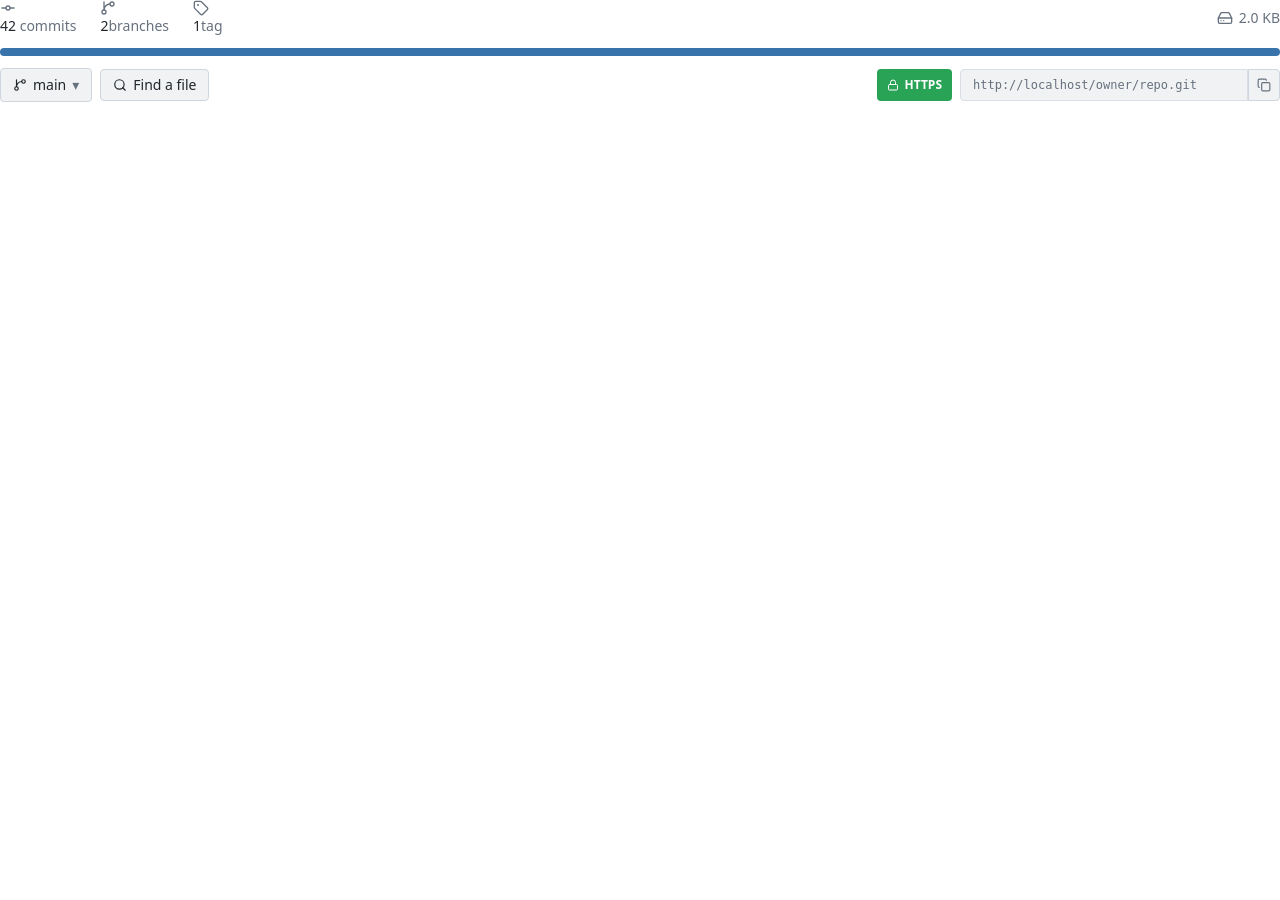
Scenario: RepoStats › searches branches and tags and navigates to the tag namespace
The image size is (1280, 900).
Click the button with test id "branch-selector" at [46, 85], box x1=0 y1=68 x2=92 y2=102
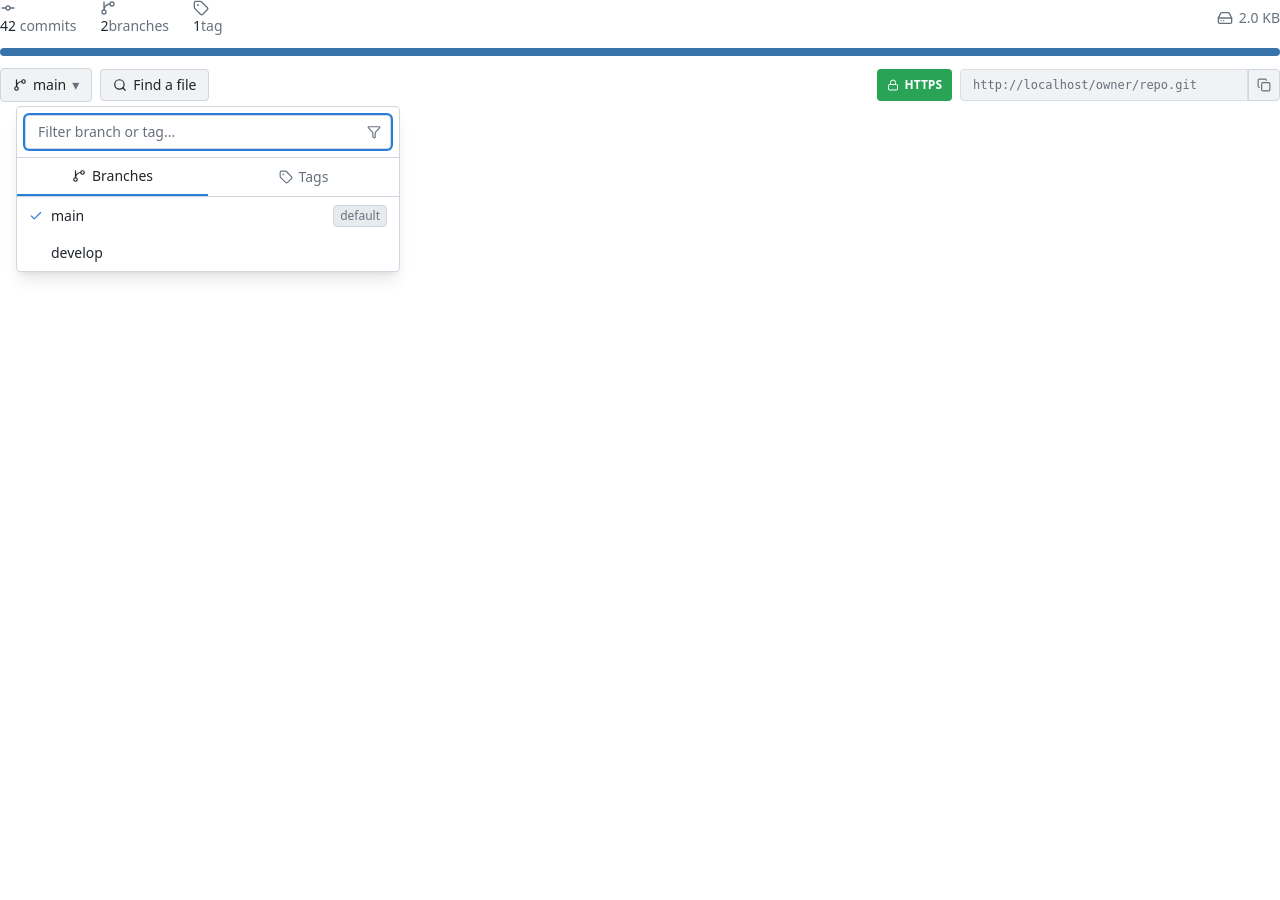
Type "DEVELOP" into the field labelled "Filter branch or tag" at [208, 132], box x1=25 y1=115 x2=391 y2=149
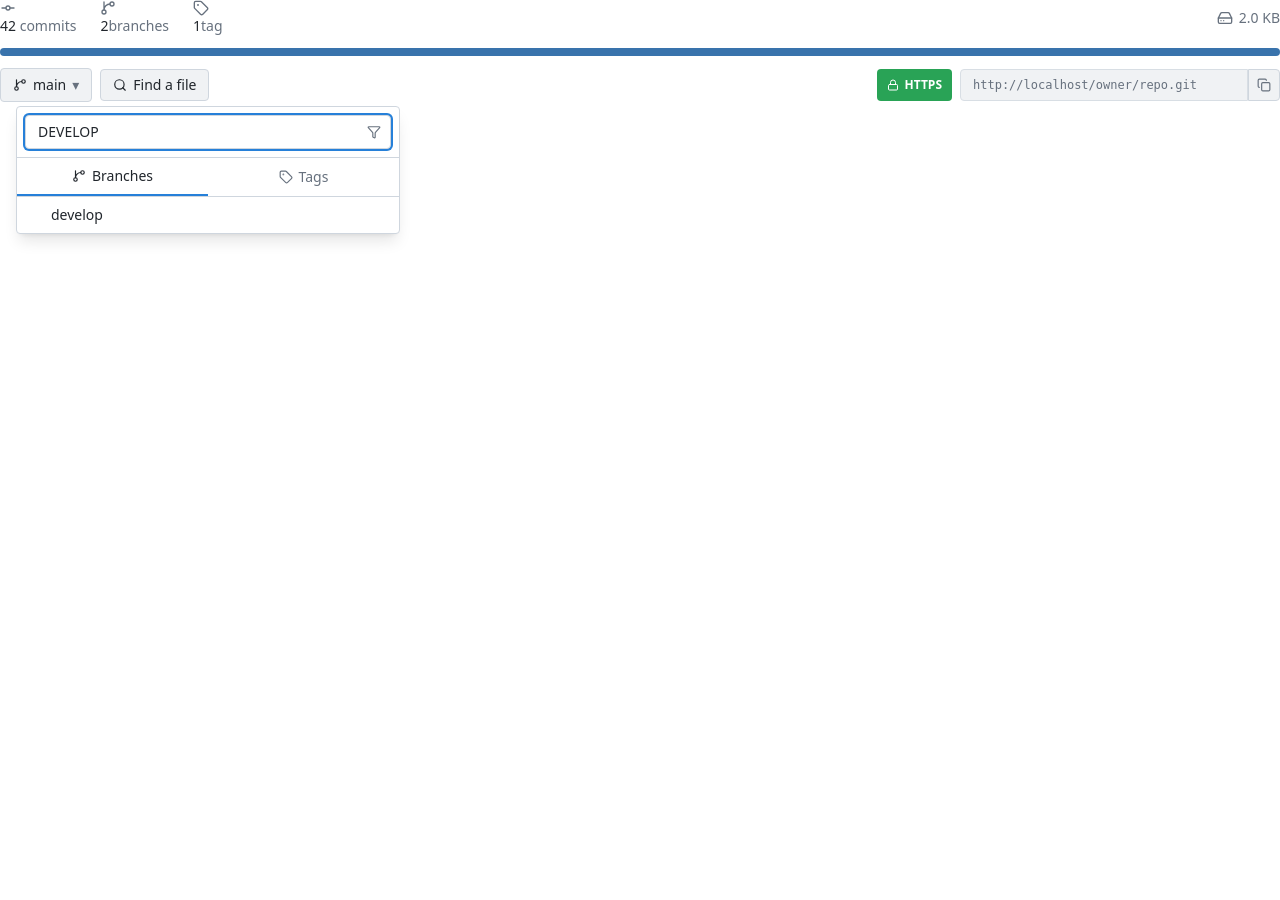
Check: the option "develop" is shown, box x1=17 y1=197 x2=399 y2=233
Click the tab "Tags" at [304, 177], box x1=208 y1=158 x2=399 y2=196
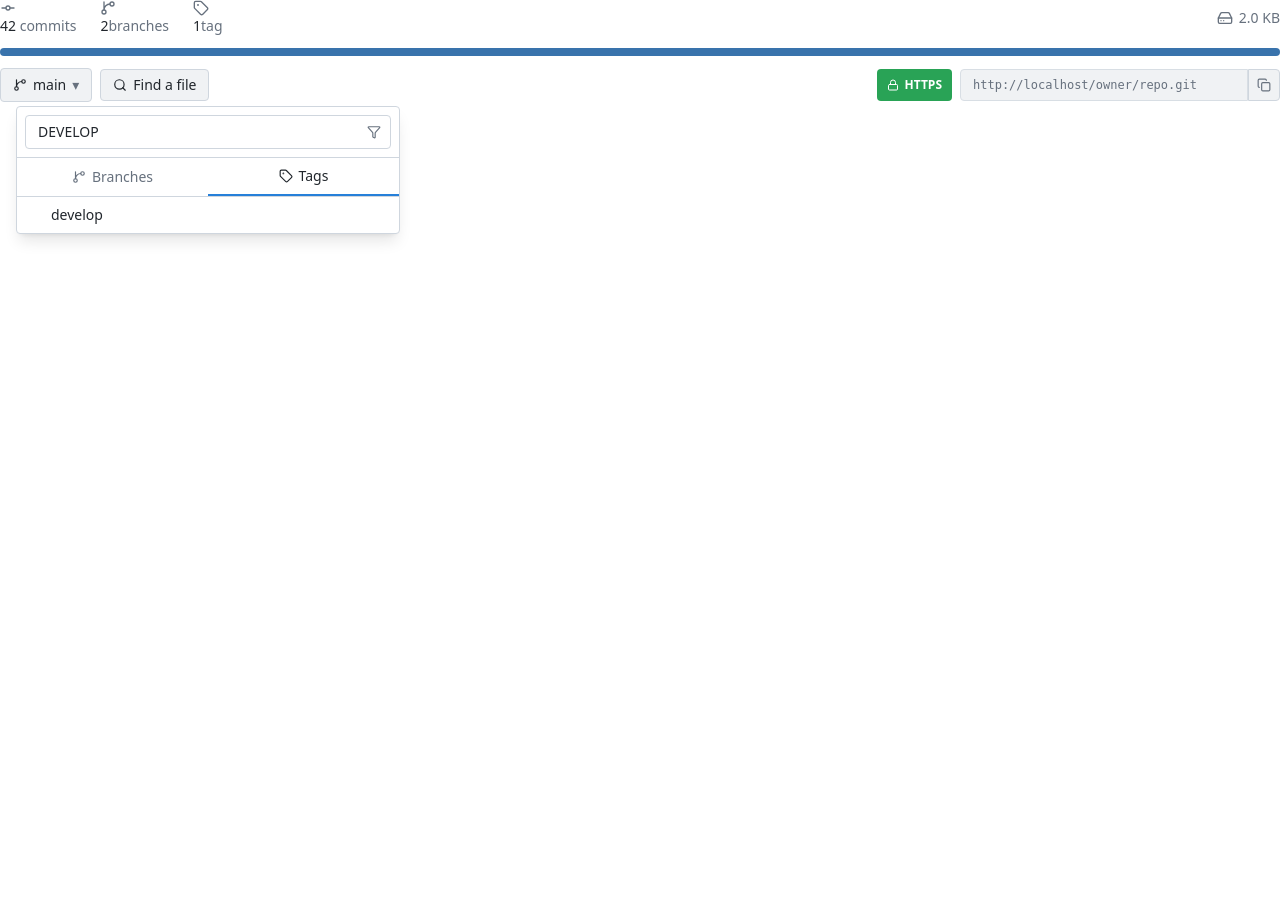
Click the option "develop" at [77, 214], box x1=17 y1=197 x2=399 y2=233
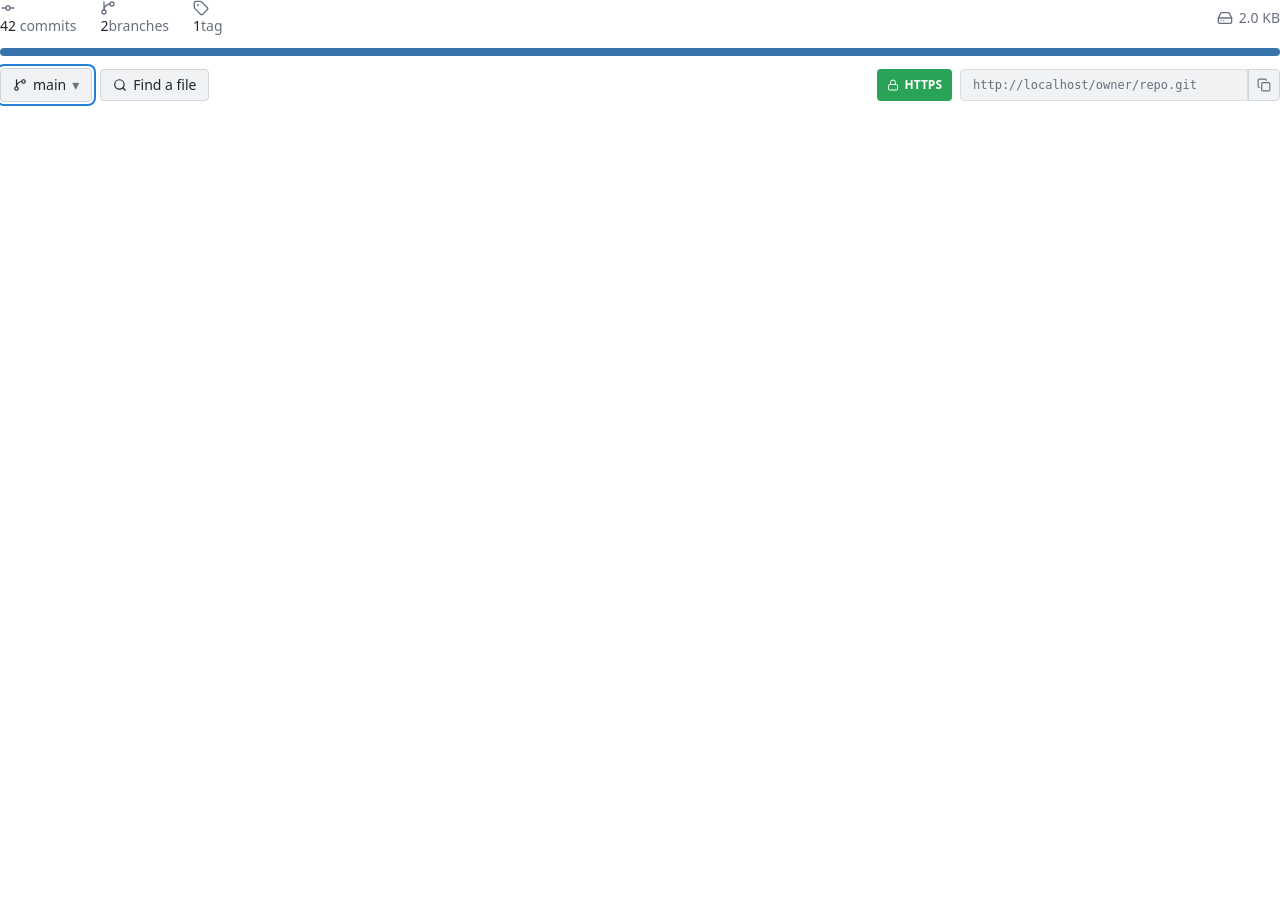
Check: the dialog is gone
